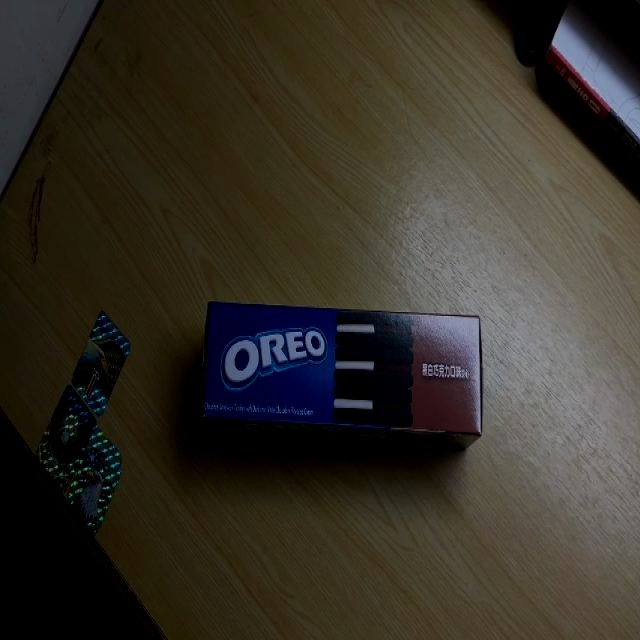Oreo: (203, 301, 482, 445)
